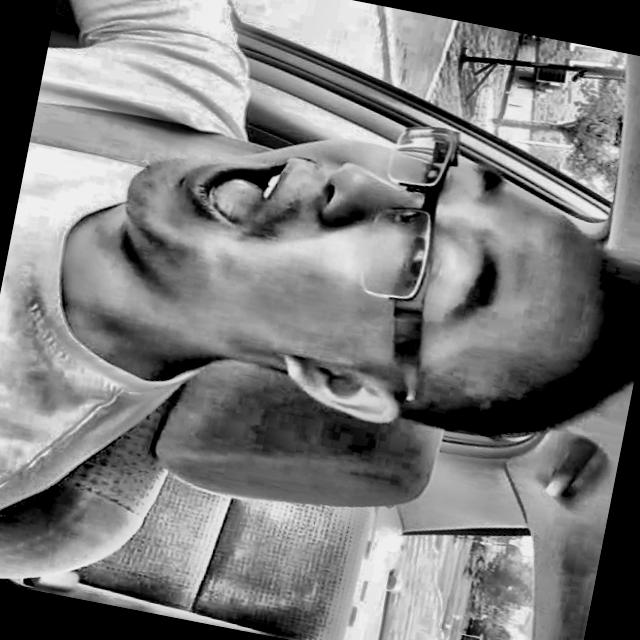open_mouth: (164, 137, 313, 242)
